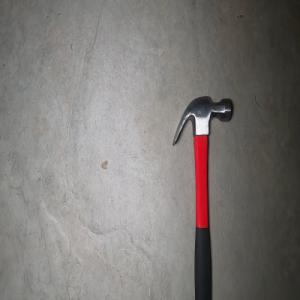Hammer: (171, 94, 233, 300)
